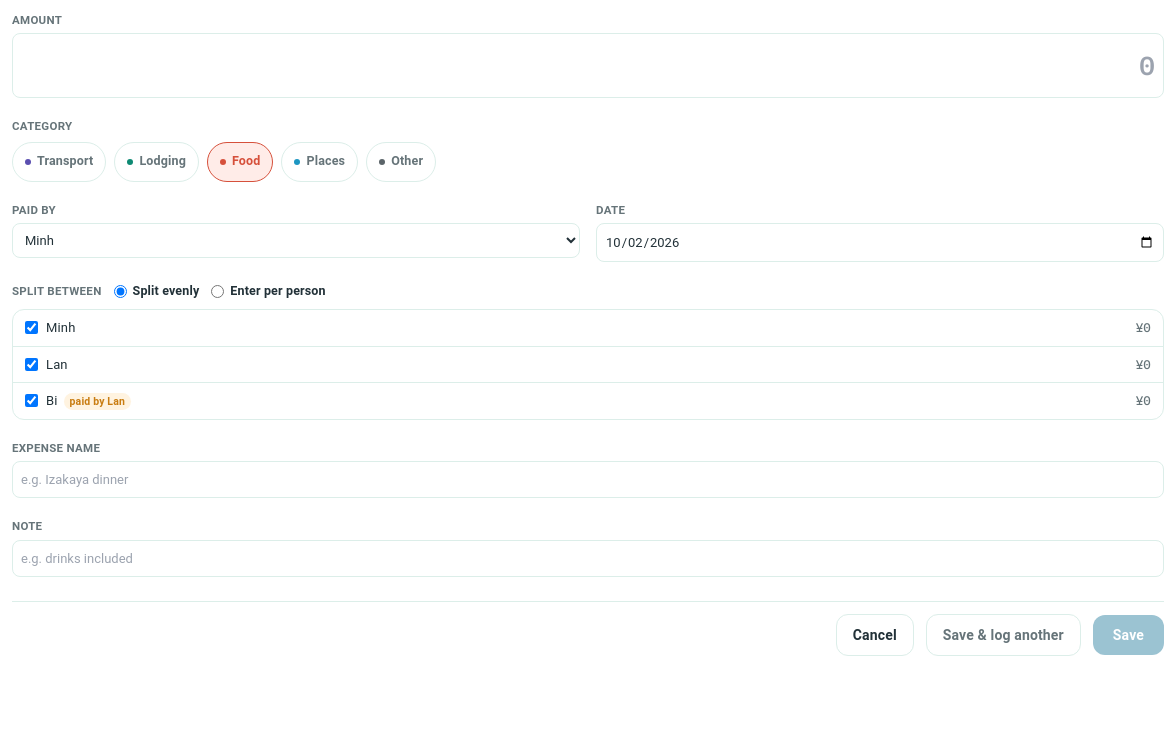
Test: Ghi chi tiêu › bỏ chọn một người thì chia lại ngay cho những người còn lại
Type "900" into the field named "Amount" at (588, 66), box [12,33,1164,98]
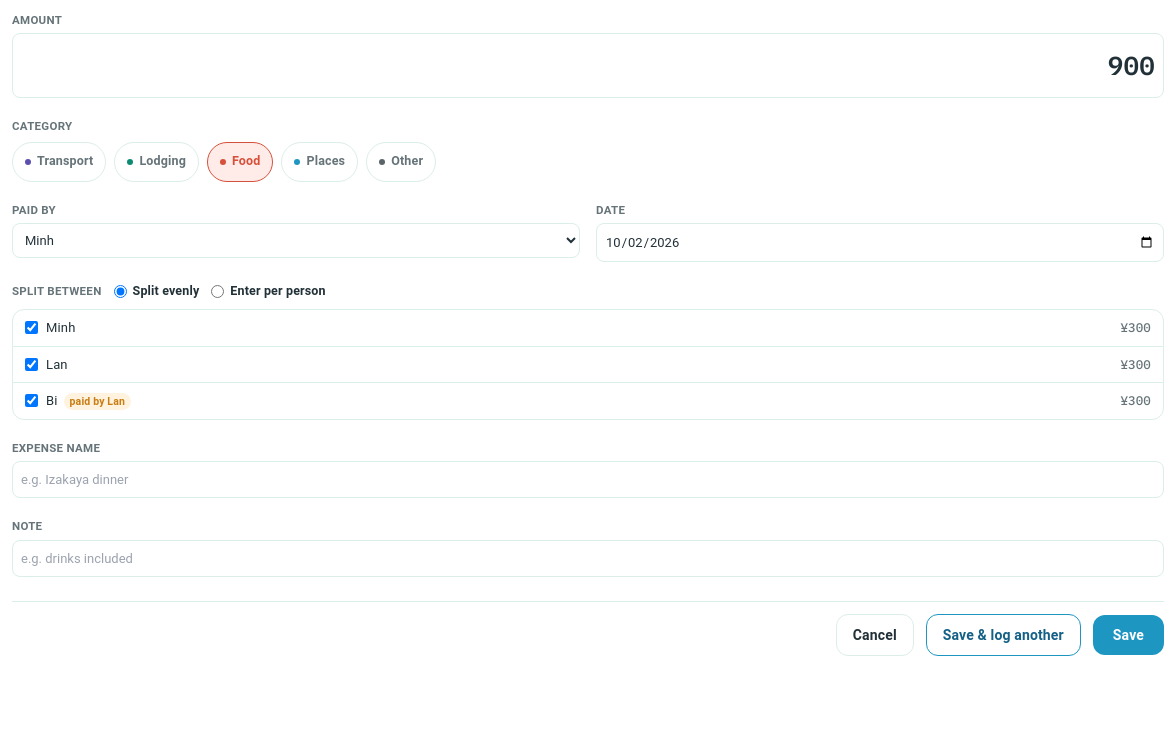
Click the checkbox named "Bi" at (32, 401), box [25,394,38,407]
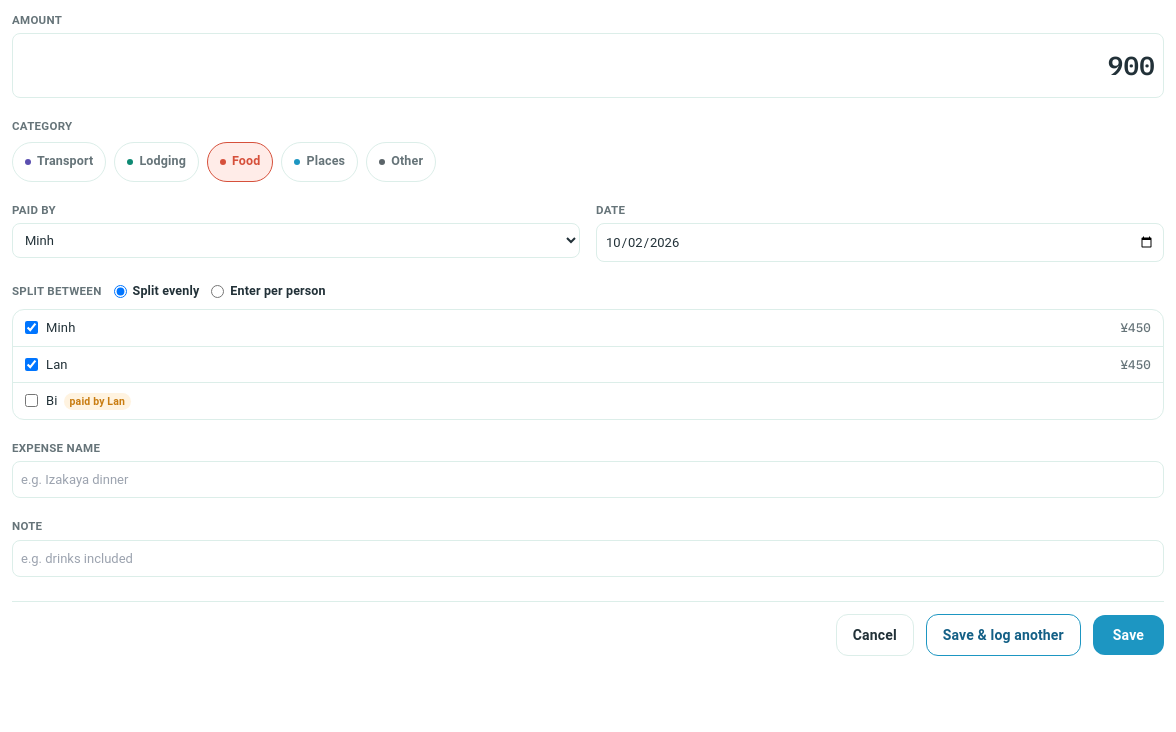
Expected: the text "¥450" is shown 2 times, [1120,319,1151,335]; [1120,356,1151,372]
